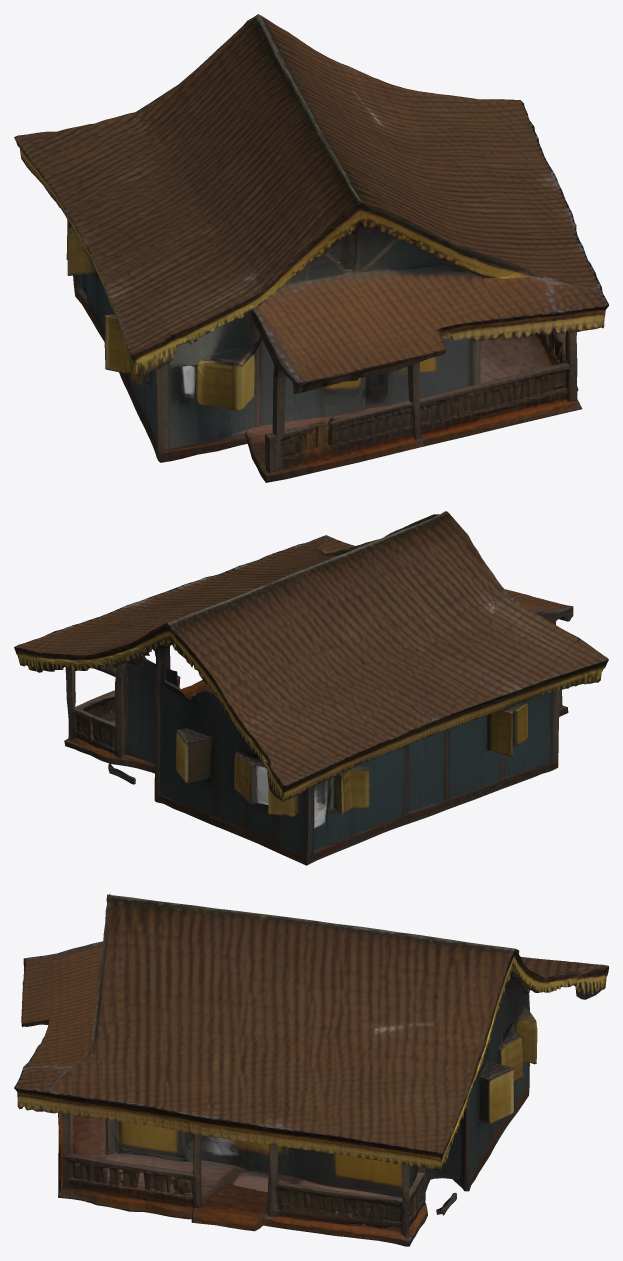
The model's file is dki-jakarta.glb.
The picture shows the model from 3 angles, top to bottom: view 1: azimuth 30°, elevation 25°; view 2: azimuth 150°, elevation 25°; view 3: azimuth 270°, elevation 25°; orthographic projection. The views are drawn at different scales.
Parts seen in each view (by area): view 1: world; view 2: world; view 3: world.
Boxes of the visible parts, <box> form: world: <box>14,14,608,482</box>; world: <box>14,511,608,865</box>; world: <box>14,894,608,1246</box>.
Bounding box in the file's own units: 0.6929 × 0.294 × 0.6977.
Materials: 1 (1 with a texture image).
